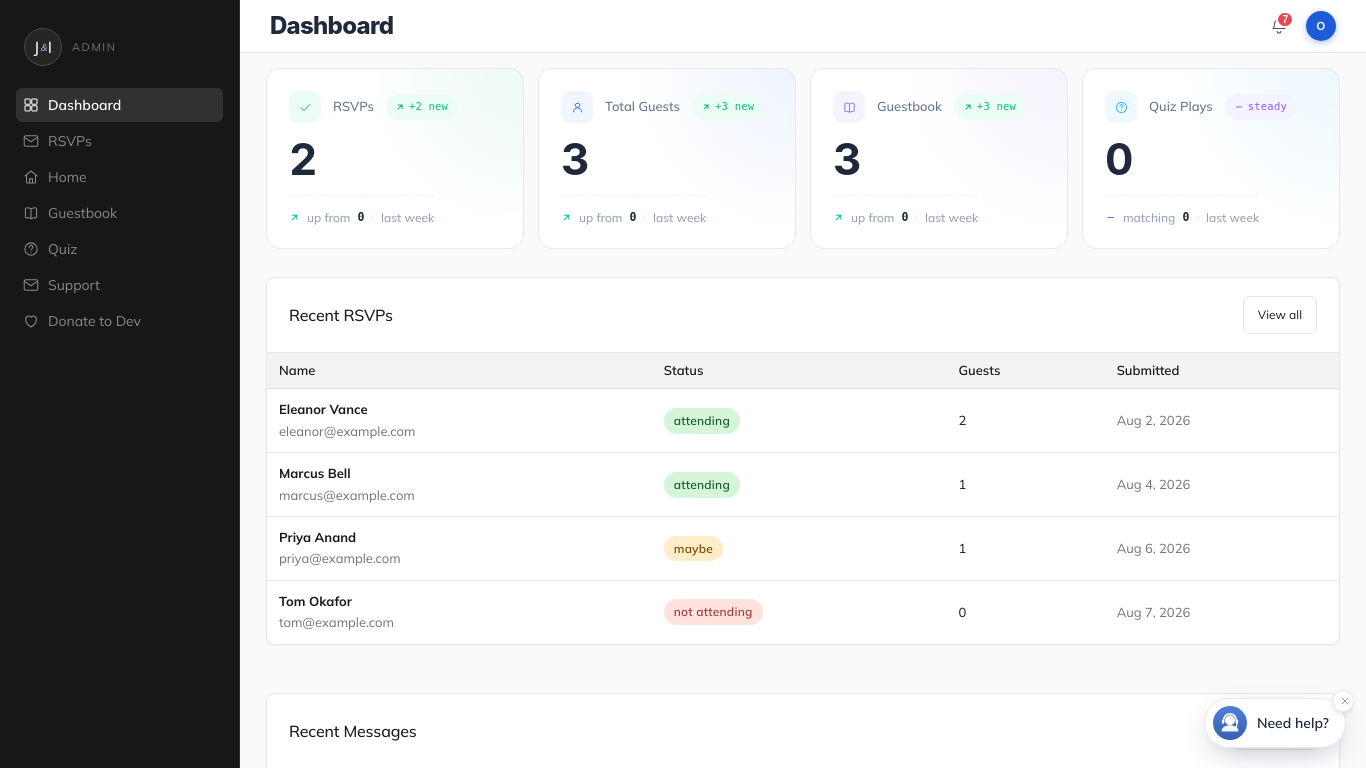
home-FAQ scan probes › owner granted ONLY homeFaq: sees Home tab + FAQ folder with checkboxes, no header fields
The width and height of the screenshot is (1366, 768).
Click the button "Home" at [120, 177], box x1=16 y1=160 x2=223 y2=194
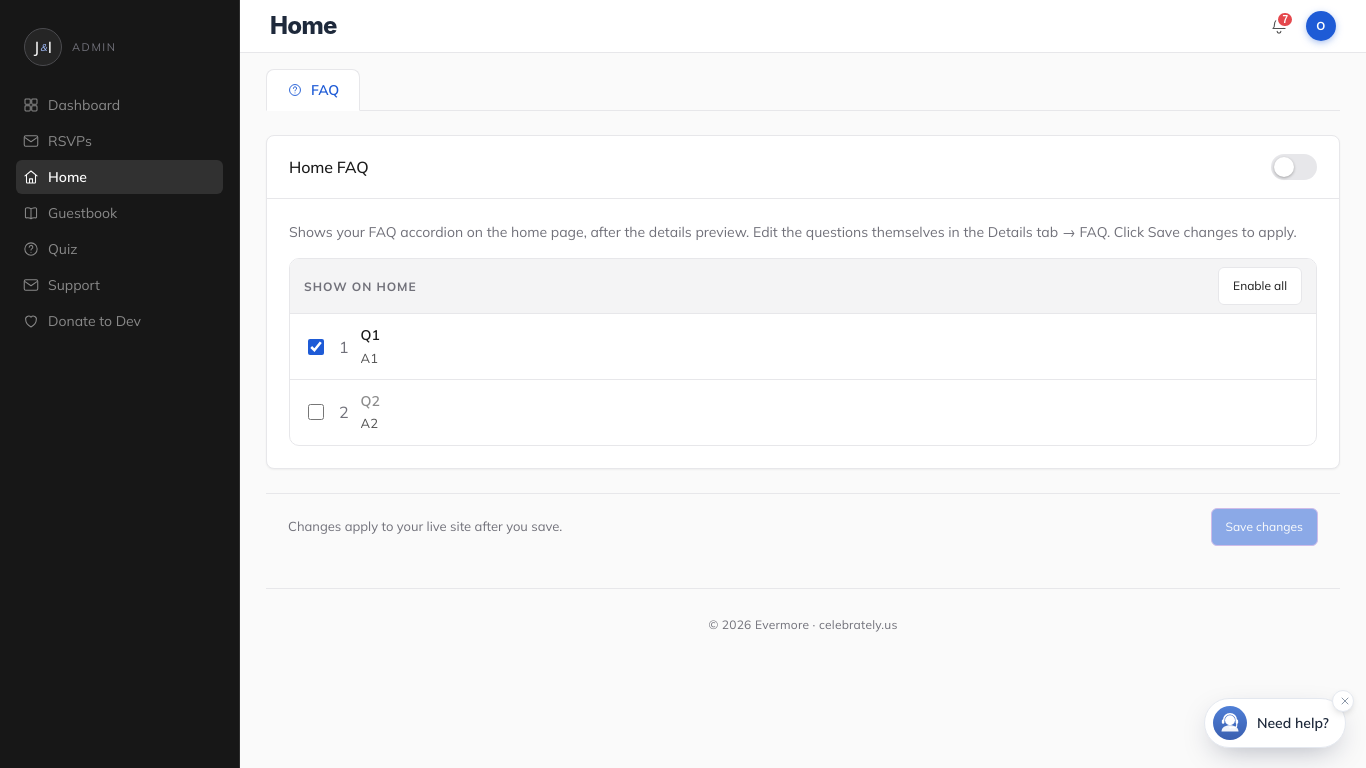
Check: the number of checkboxes is 2, box x1=308 y1=339 x2=324 y2=355; x1=308 y1=404 x2=324 y2=420
Check: the text "Enable all" is shown, box x1=1218 y1=268 x2=1302 y2=306
